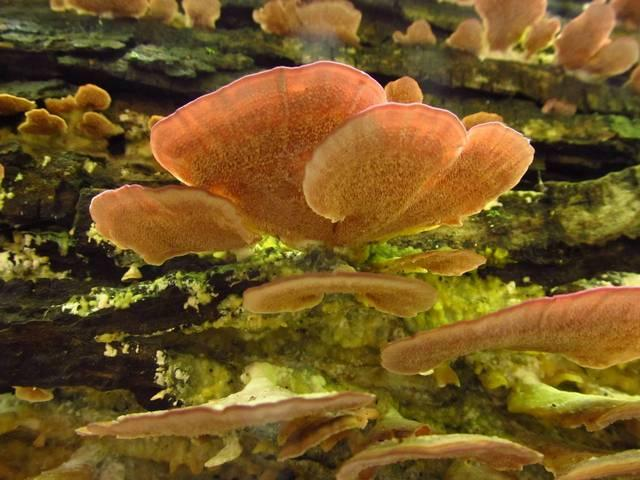Non-edible Mushroom: (87, 58, 535, 268)
